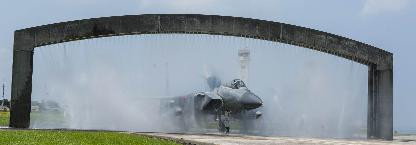F117: (121, 62, 275, 133)
